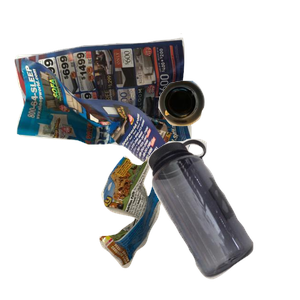glass: (156, 78, 300, 197)
paper: (12, 31, 196, 204)
plastic: (145, 136, 300, 300)
trash: (97, 151, 283, 300)
